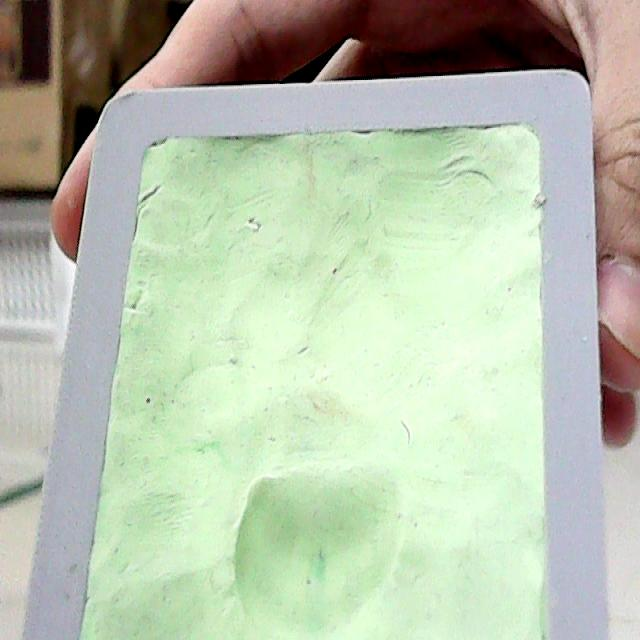block: (19, 66, 608, 640)
